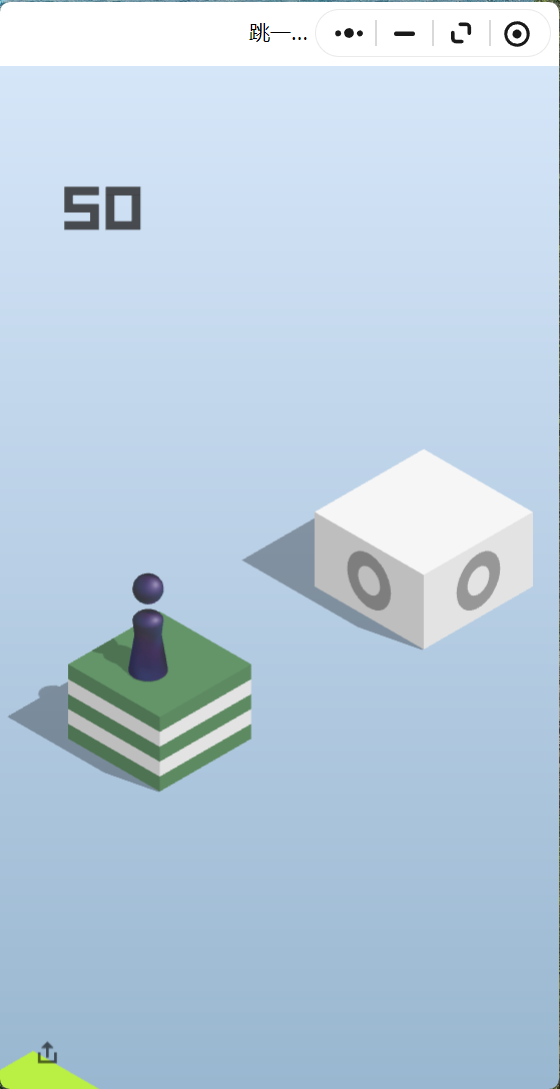piece: (133, 573, 163, 677)
target: (315, 448, 533, 575)
